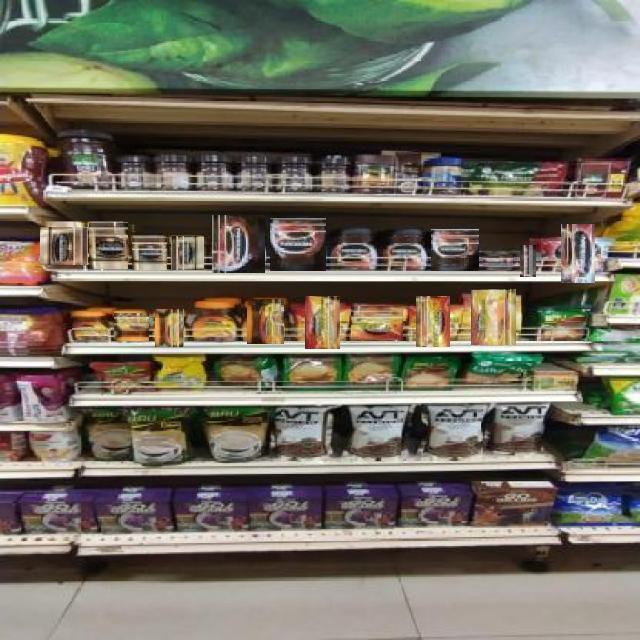Coffee: (269, 217, 326, 271), (212, 215, 265, 272), (471, 289, 516, 345), (329, 228, 380, 271), (380, 229, 428, 272), (430, 229, 479, 271), (560, 225, 595, 283), (88, 222, 128, 269), (40, 227, 88, 265), (351, 305, 403, 340), (306, 296, 340, 349), (193, 303, 240, 340), (416, 297, 450, 347), (248, 299, 284, 344), (132, 236, 167, 270), (170, 236, 204, 270), (156, 308, 184, 347), (113, 312, 149, 341), (72, 314, 108, 341), (482, 253, 513, 270), (519, 246, 536, 277)
